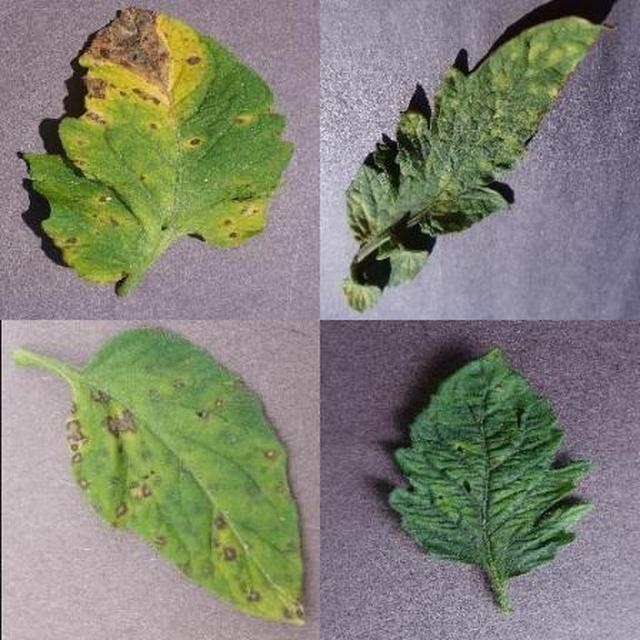Septoria Leaf: (230, 205, 640, 640)
